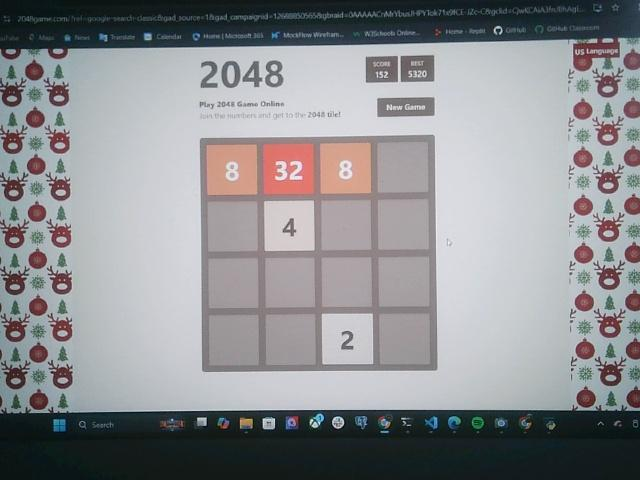board: (201, 137, 436, 372)
tile: (263, 143, 314, 194), (207, 144, 257, 196), (321, 142, 371, 194), (323, 313, 373, 365), (265, 201, 315, 252)
